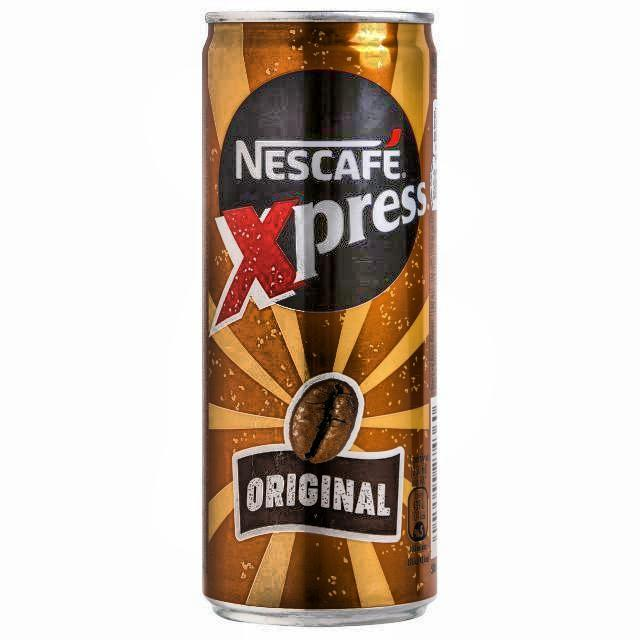metal: (200, 11, 438, 631)
